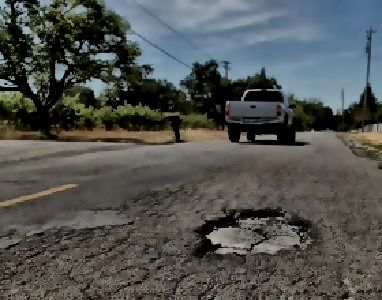pothole: (195, 206, 316, 259)
